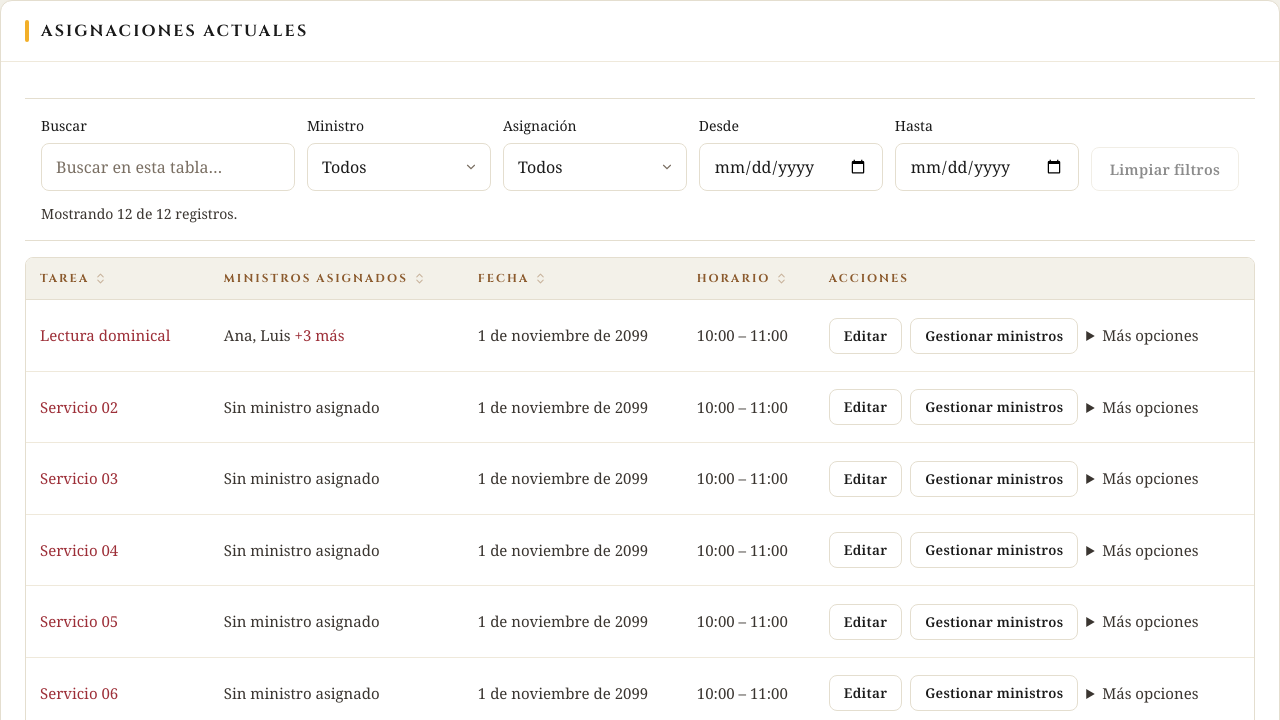
tareas agrupadas y tarjeta de asignación › abre la tarjeta desde la fila o el teclado y restaura el foco al cerrar
Click the row "Lectura dominical": (640, 336) [26,300,1254,371]
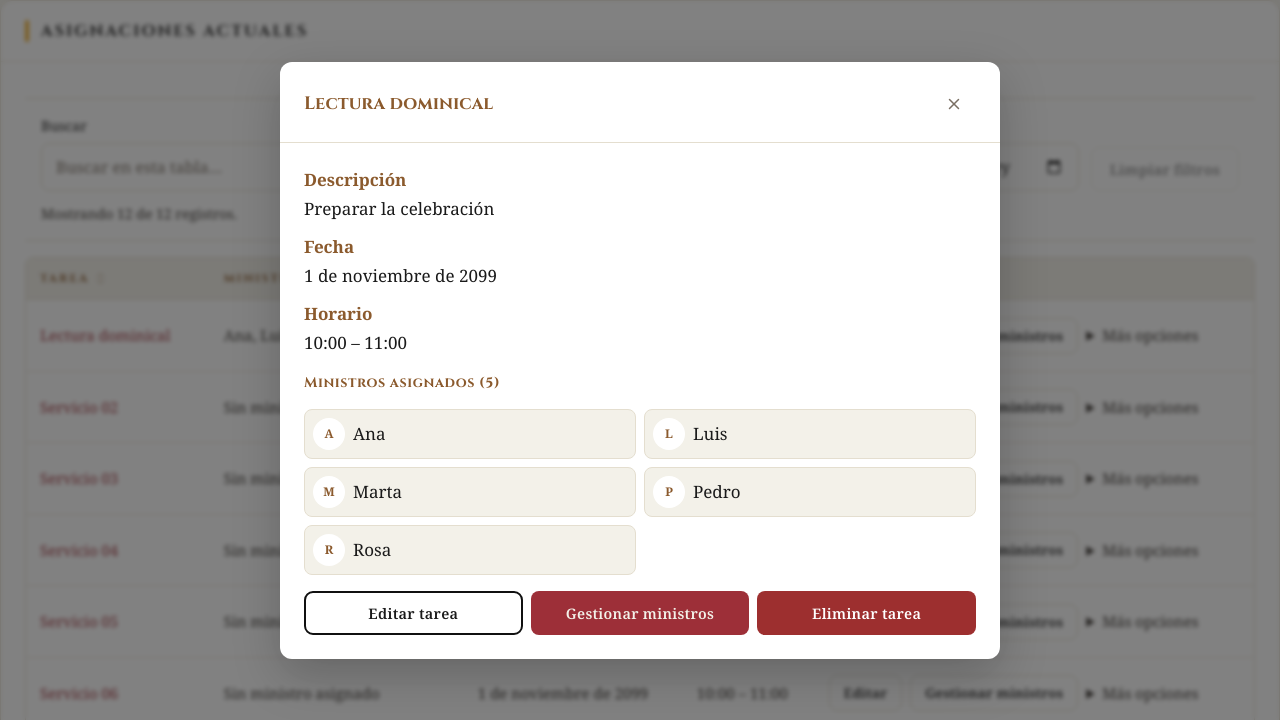
Expected: the dialog "Lectura dominical" shows "Preparar la celebración", [304,197,494,220]
Expected: the heading "Ministros asignados (5)" is shown, [304,372,500,392]
Expected: the text "Ana" is shown, [353,421,386,446]
Press Escape
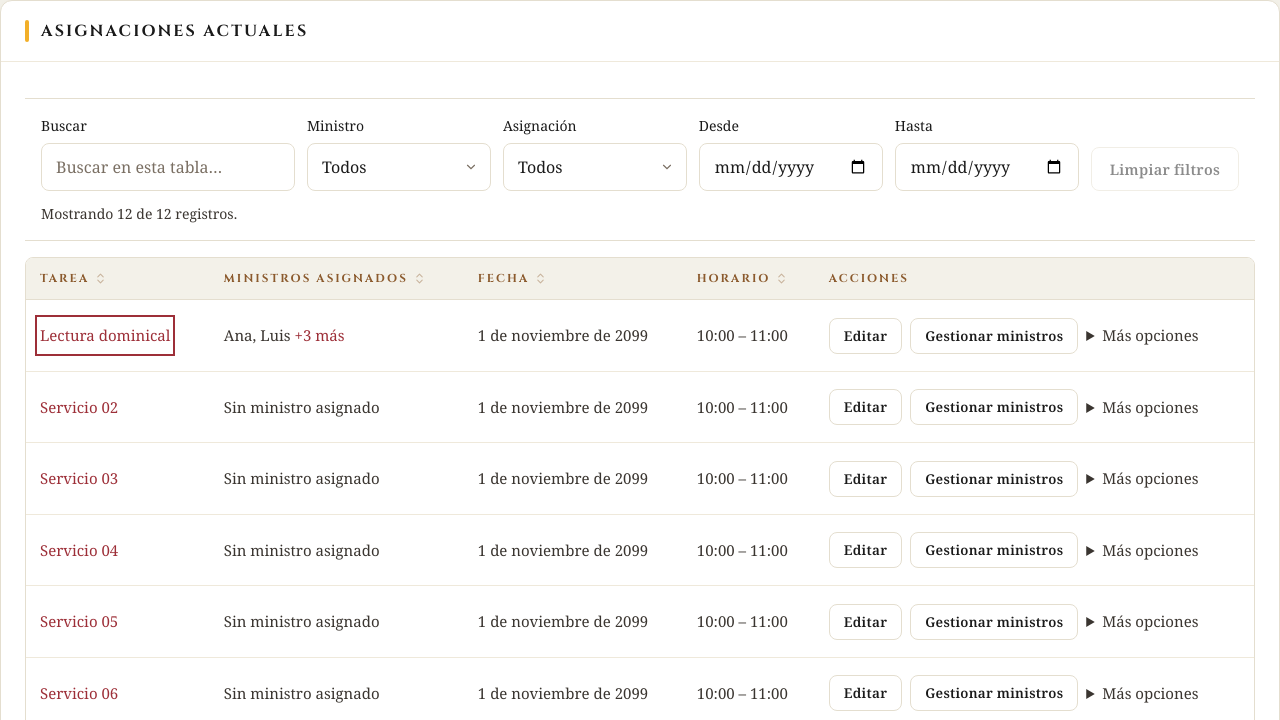
Press Enter
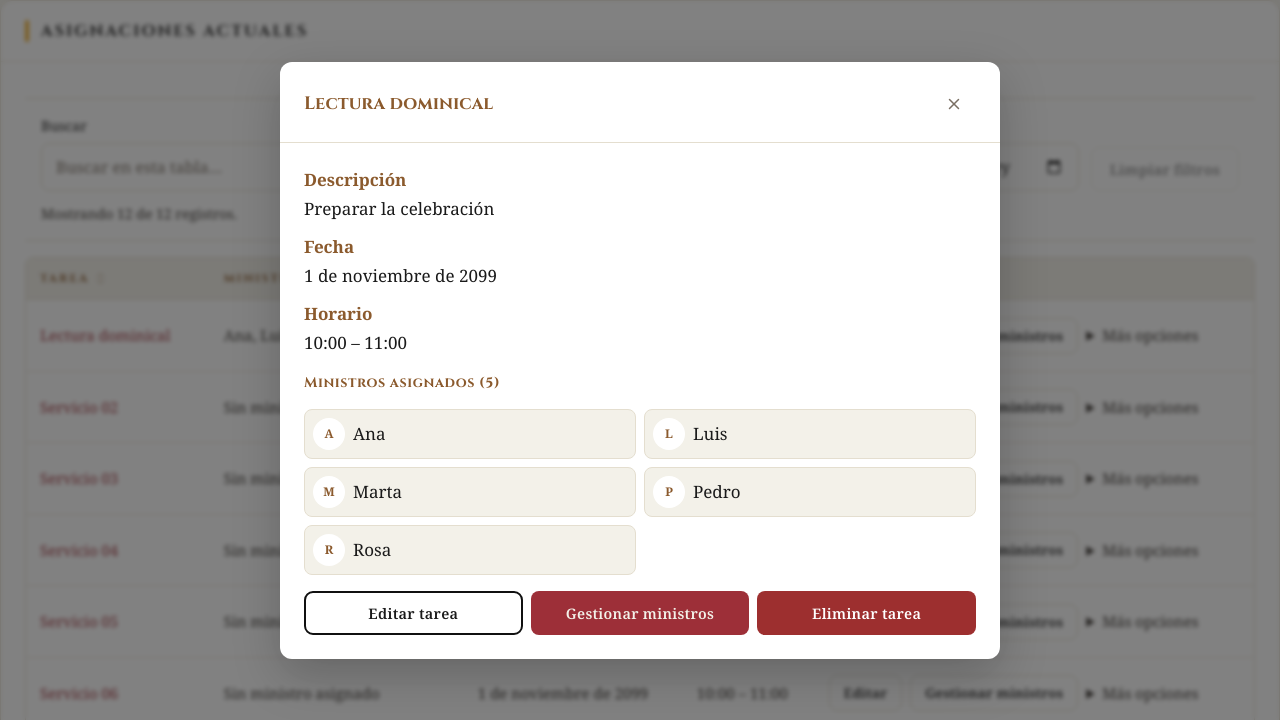
Expected: the number of dialogs is 1, [280,62,1000,658]
